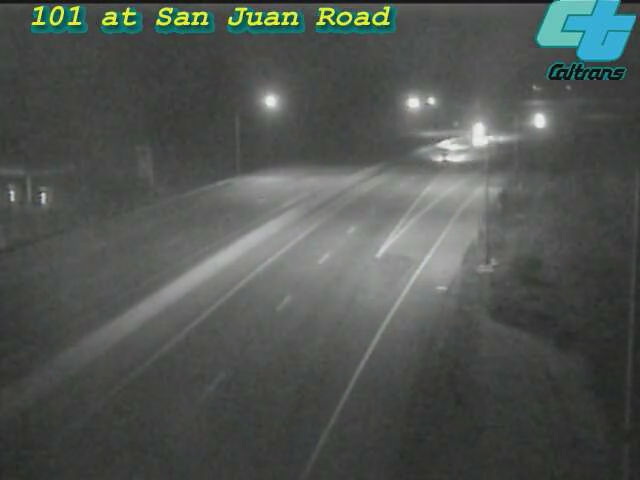vehicle: (453, 104, 503, 154), (513, 96, 563, 146), (461, 117, 511, 167), (428, 121, 478, 171), (420, 134, 470, 184)
